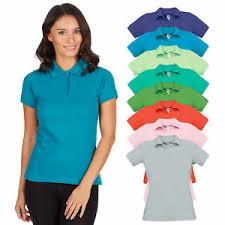S_polo shirt: (21, 58, 113, 183), (127, 138, 208, 217)
